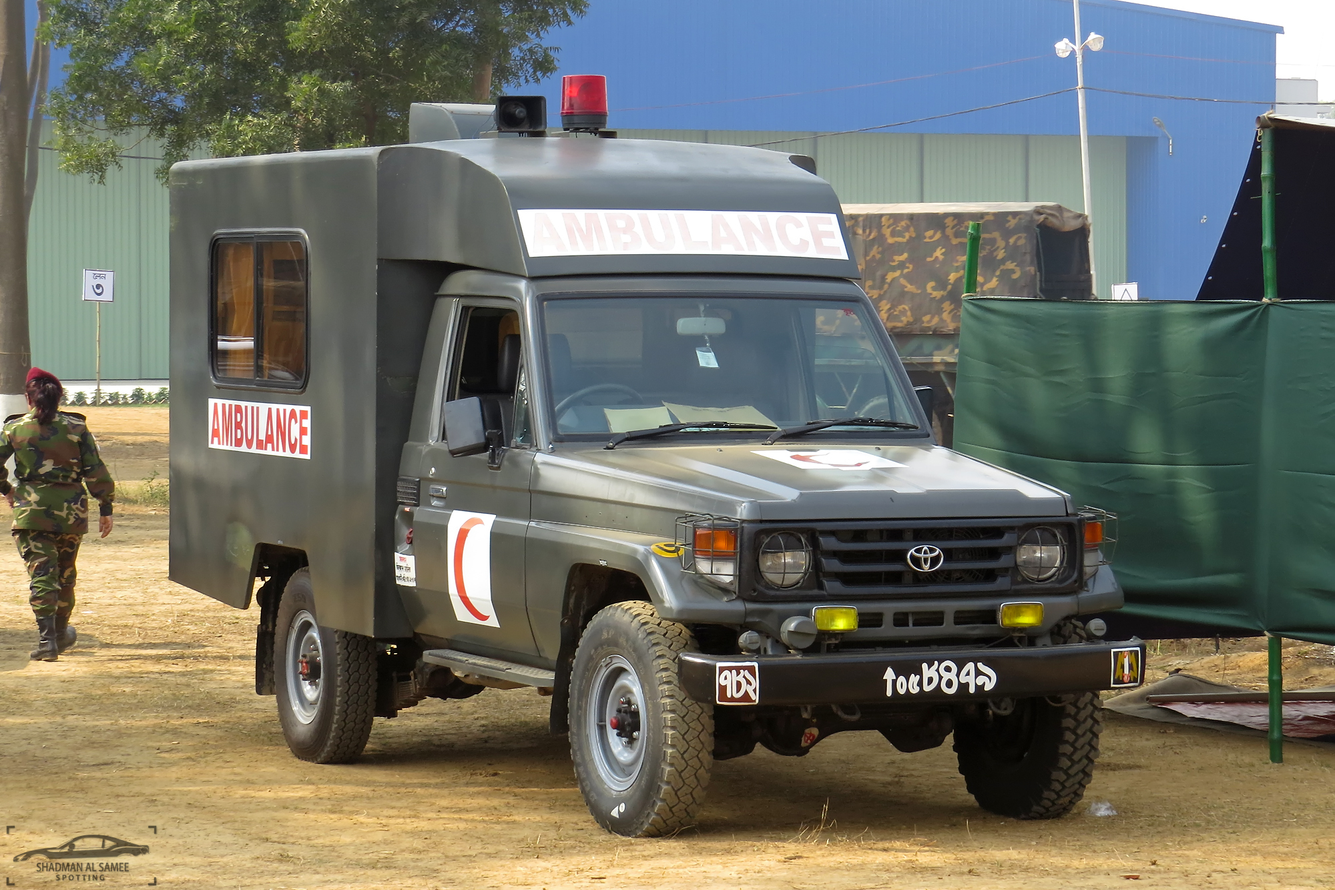Ambulance: (149, 49, 1183, 823)
